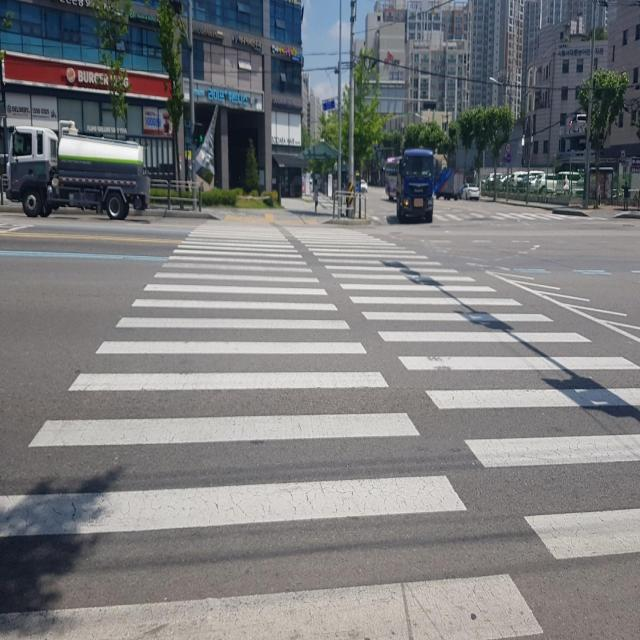초록불: (196, 122, 205, 147)
횡단보도: (0, 219, 639, 639)
